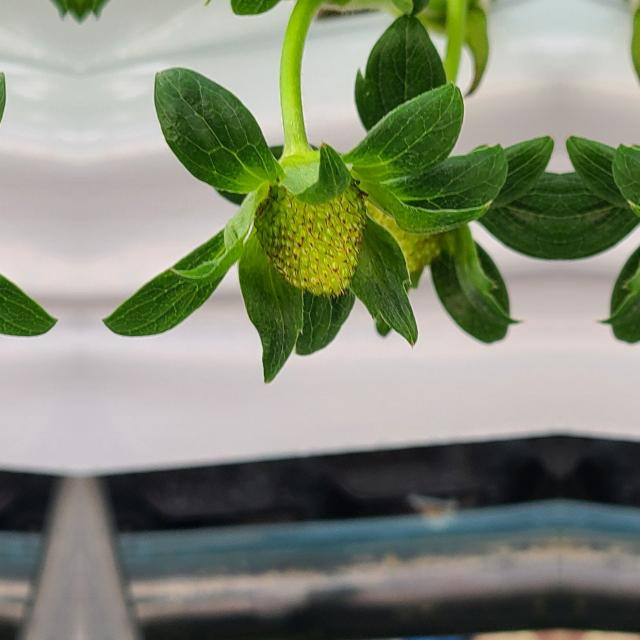Health_25: (253, 176, 367, 296)
